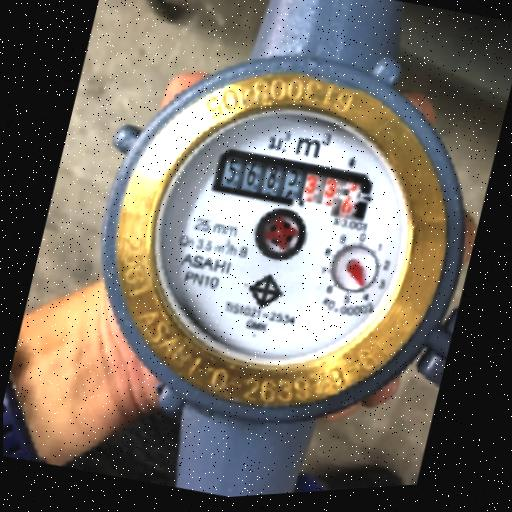3: (319, 175, 341, 208), (300, 172, 321, 204)
5: (219, 156, 243, 190), (281, 166, 302, 200)
6: (337, 177, 362, 220), (239, 160, 262, 194)
8: (260, 164, 282, 197)
border_water_meter_number: (211, 137, 375, 232)
